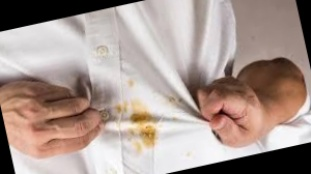oil: (113, 97, 168, 163), (163, 92, 187, 122), (121, 79, 138, 92), (182, 146, 195, 158)
